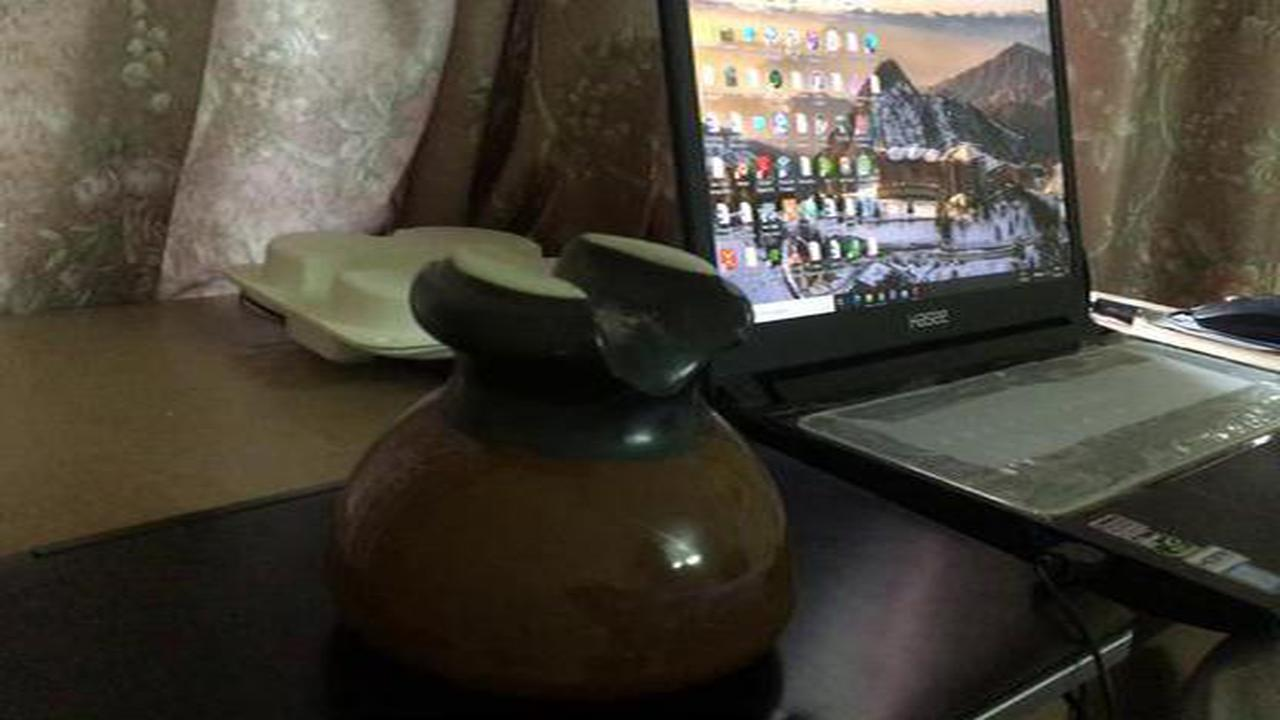insulator_pin: (317, 226, 825, 717)
